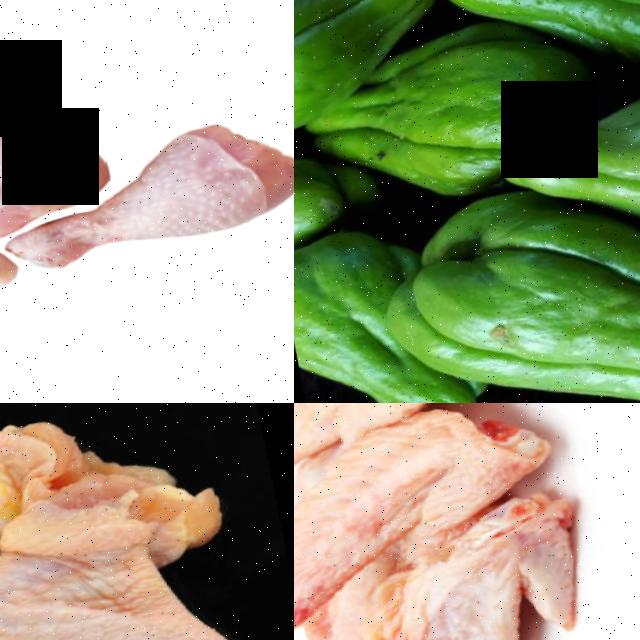chayote: (384, 190, 640, 403), (297, 47, 560, 197), (294, 221, 454, 403), (512, 56, 640, 236), (294, 0, 424, 102)
chicken thigh: (21, 115, 294, 283), (0, 38, 95, 262)
chicken wing: (294, 404, 628, 640), (0, 403, 264, 640)
